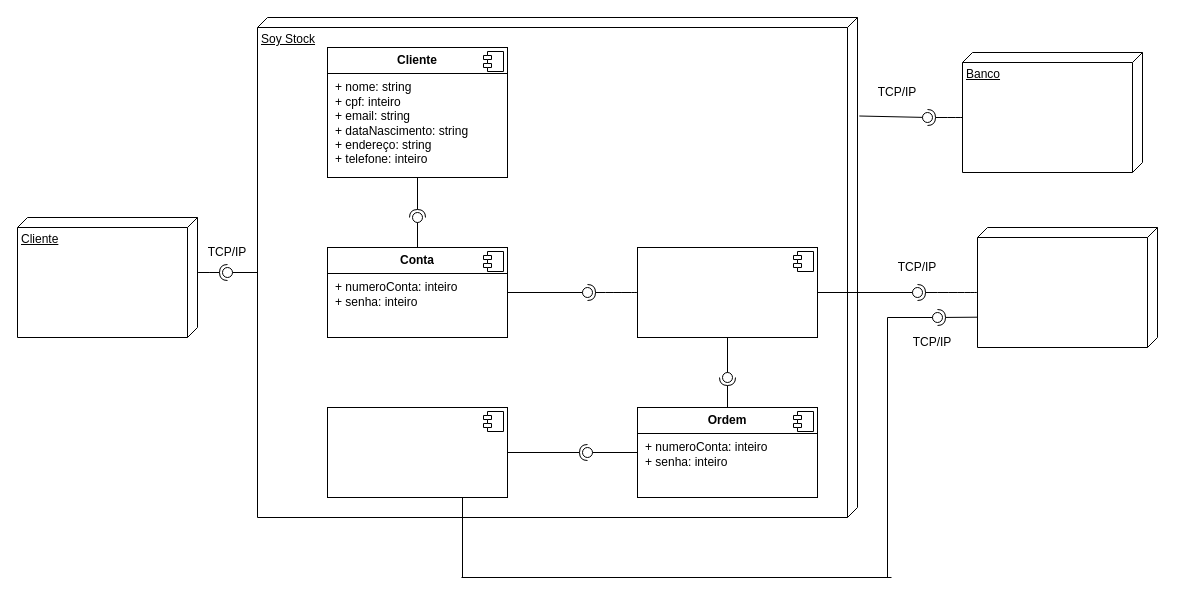
Some shapes in this 1190 by 596 pixel diagram are drawn without their labels. Each missing label, with the centre of its shape:
Ação + idAcao: inteiro + nomeAcao: string + valor: float + setor: string: the point at 417,452
B3: the point at 1067,287
Carteira + Saldo: float: the point at 727,292
